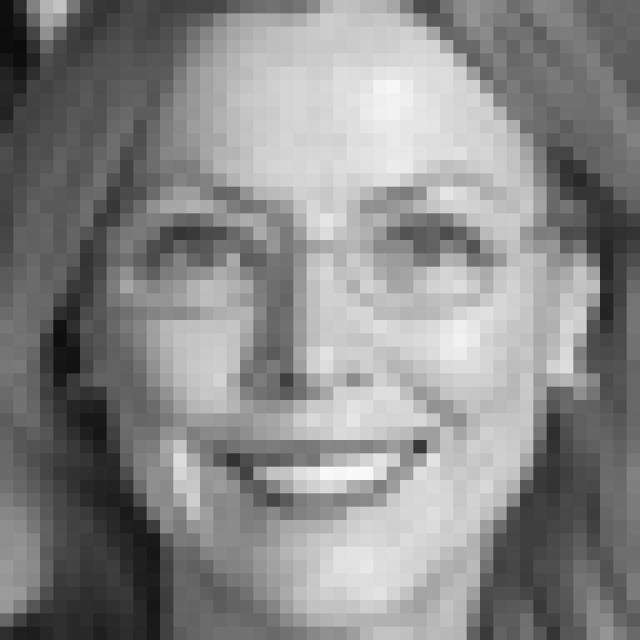happy: (119, 153, 519, 542)
